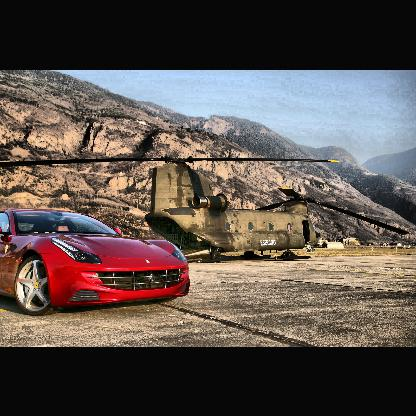Ferrari FF Coupe 2012: (2, 207, 192, 315)
